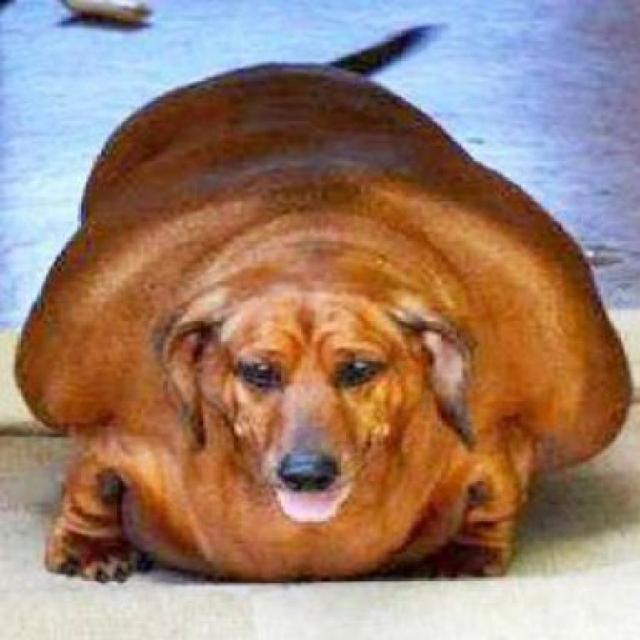Dog: (12, 23, 632, 591)
